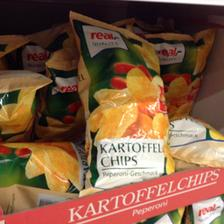Chips: (68, 10, 176, 196), (146, 29, 212, 117)
